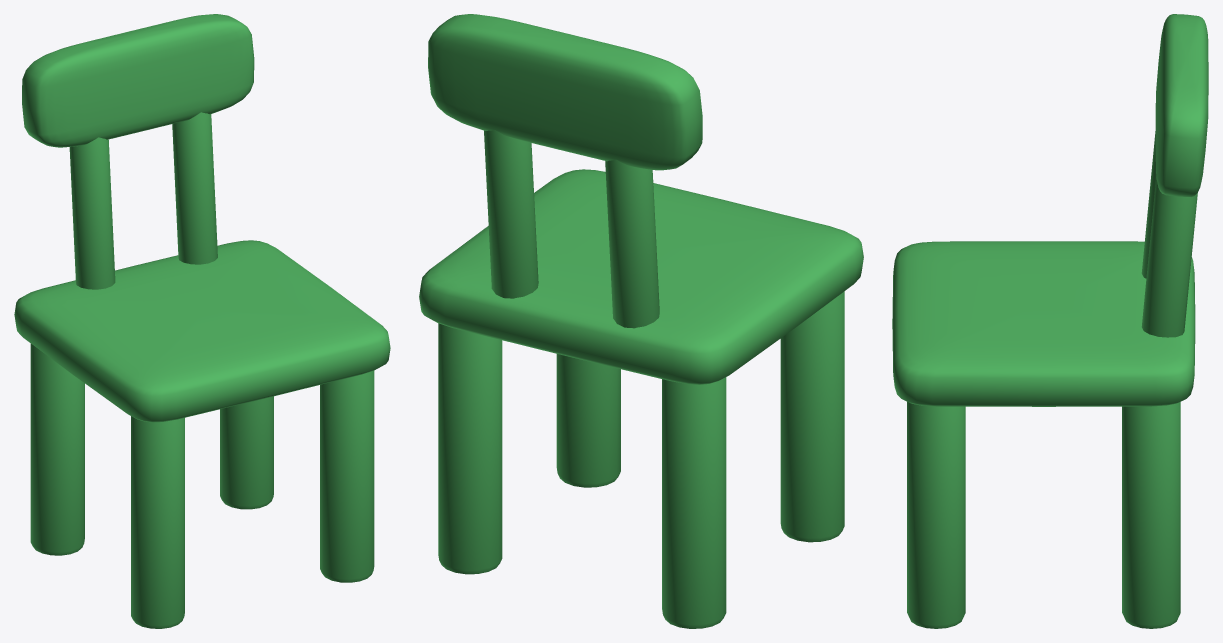
The model's file is cadeirinha_infantil_verde.glb.
The picture shows the model from 3 angles, left to right: view 1: azimuth 30°, elevation 25°; view 2: azimuth 150°, elevation 25°; view 3: azimuth 270°, elevation 25°; orthographic projection. The views are drawn at different scales.
Parts seen in each view (by area): view 1: cadeirinha_infantil_verde; view 2: cadeirinha_infantil_verde; view 3: cadeirinha_infantil_verde.
Boxes of the visible parts, bbox=[...] form: cadeirinha_infantil_verde: bbox=[14, 14, 390, 628]; cadeirinha_infantil_verde: bbox=[419, 14, 863, 628]; cadeirinha_infantil_verde: bbox=[892, 14, 1208, 628].
Bounding box in the file's own units: 0.33 × 0.5793 × 0.3234.
1 material, 1 textured.
